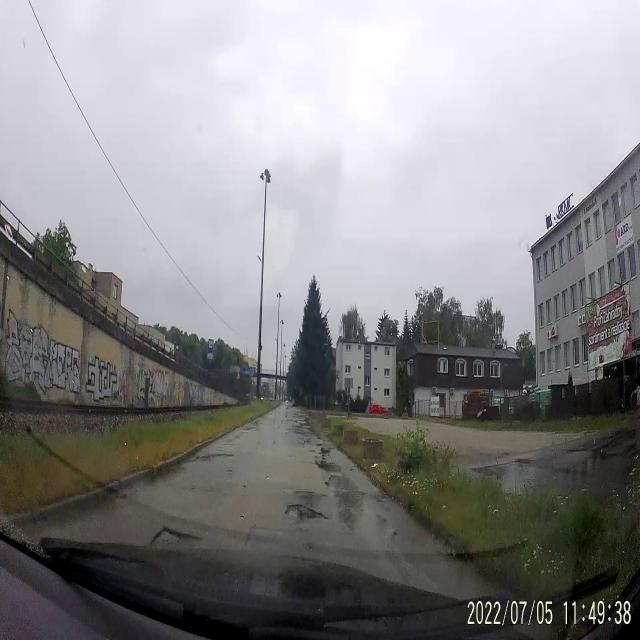Pothole: (140, 521, 198, 551), (192, 444, 240, 470), (282, 505, 330, 524), (294, 488, 328, 500)
